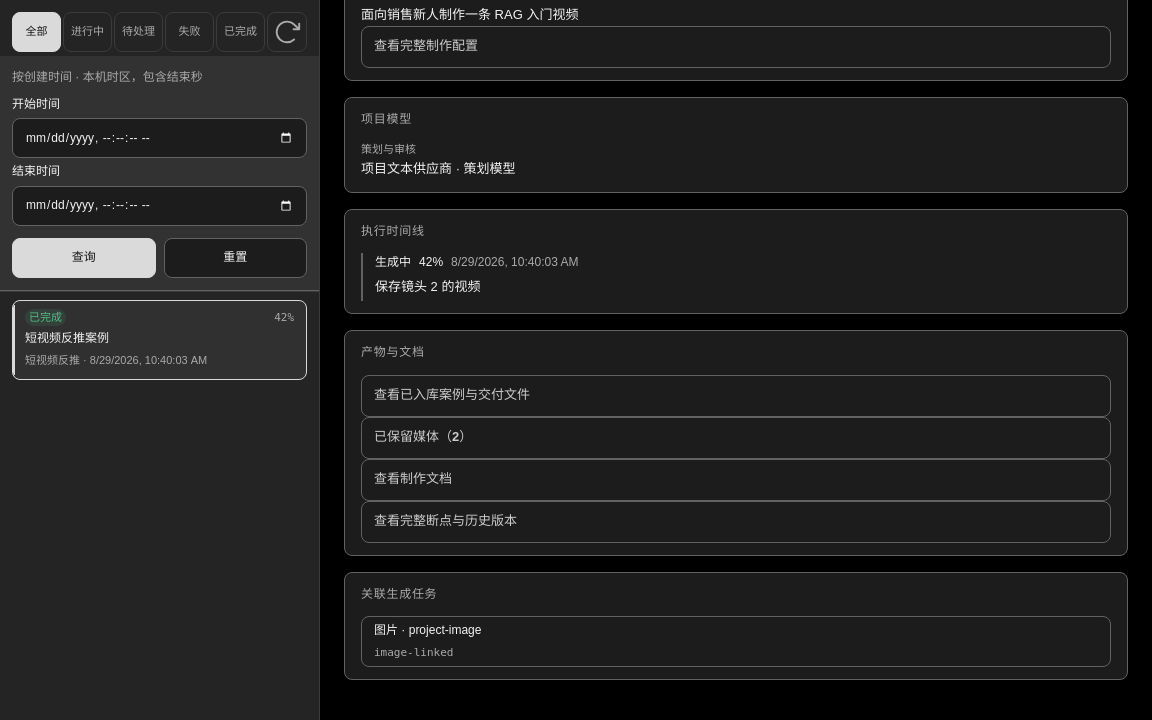
it: WorkflowHistoryPanel › keeps reverse workflow case and MD/TXT delivery available independently of its canvas node
(page scrolled)
Click the heading "查看已入库案例与交付文件" at x=452, y=395, box [374,387,530,402]
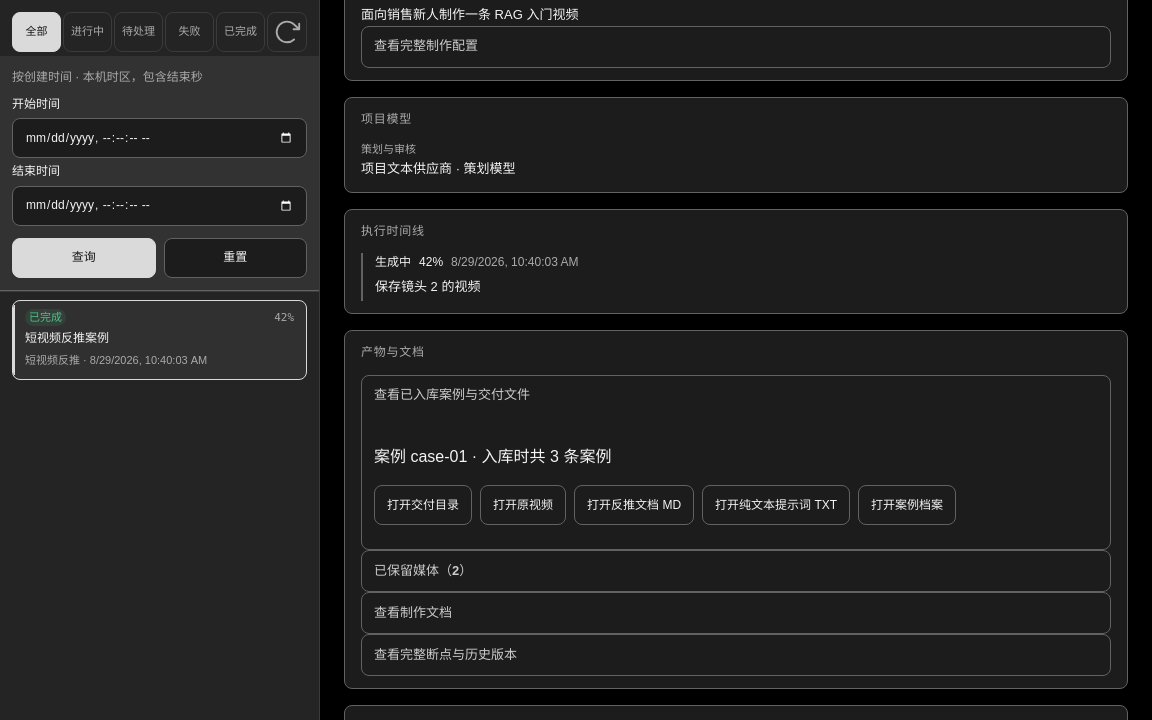
Expected: the button "打开纯文本提示词 TXT" is shown, [702,485,850,525]
Expected: the button "打开反推文档 MD" is shown, [574,485,694,525]
Expected: the button "打开案例档案" is shown, [858,485,956,525]
